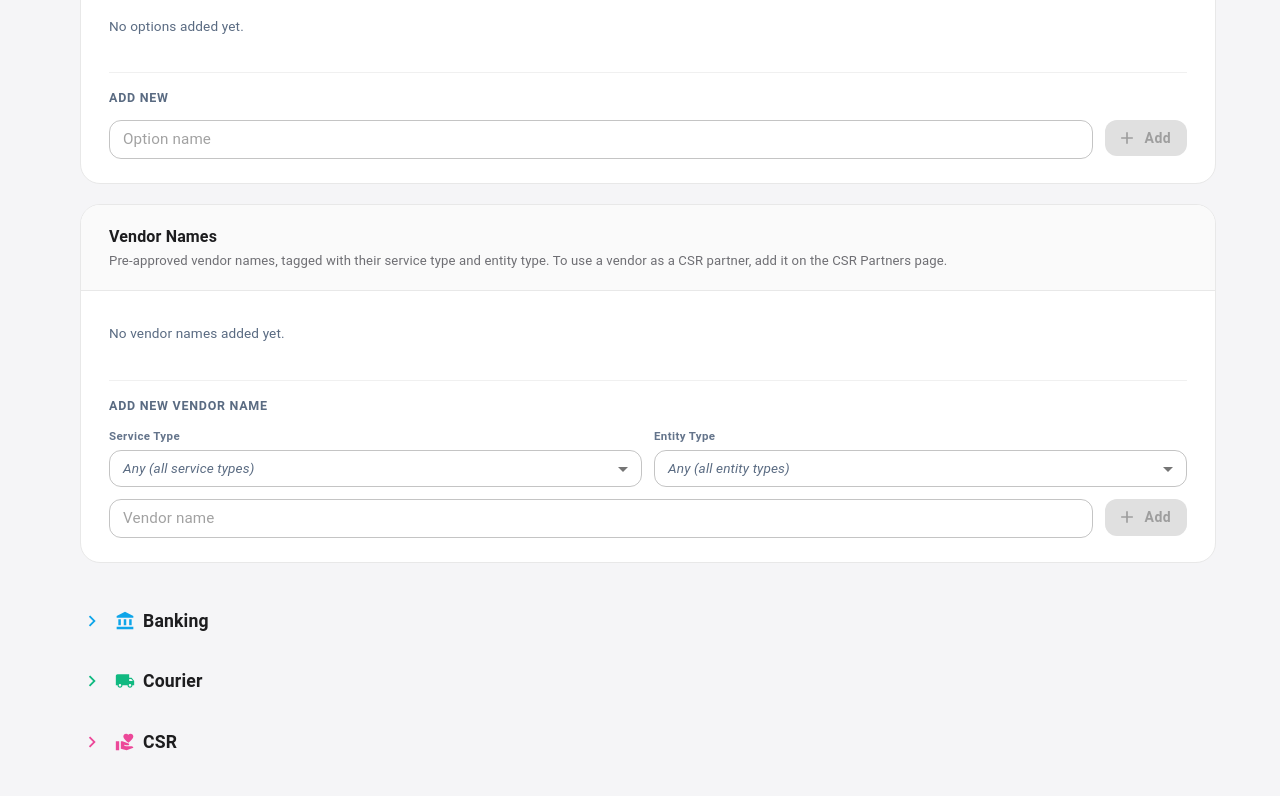
the admin can maintain both CSR catalogs from TTA Admin
(page scrolled)
What coordinates should you click on to do the following:
click the text "CSR"
I would click on:
 (160, 742)
Its box is [143,729,177,755].
(page scrolled)
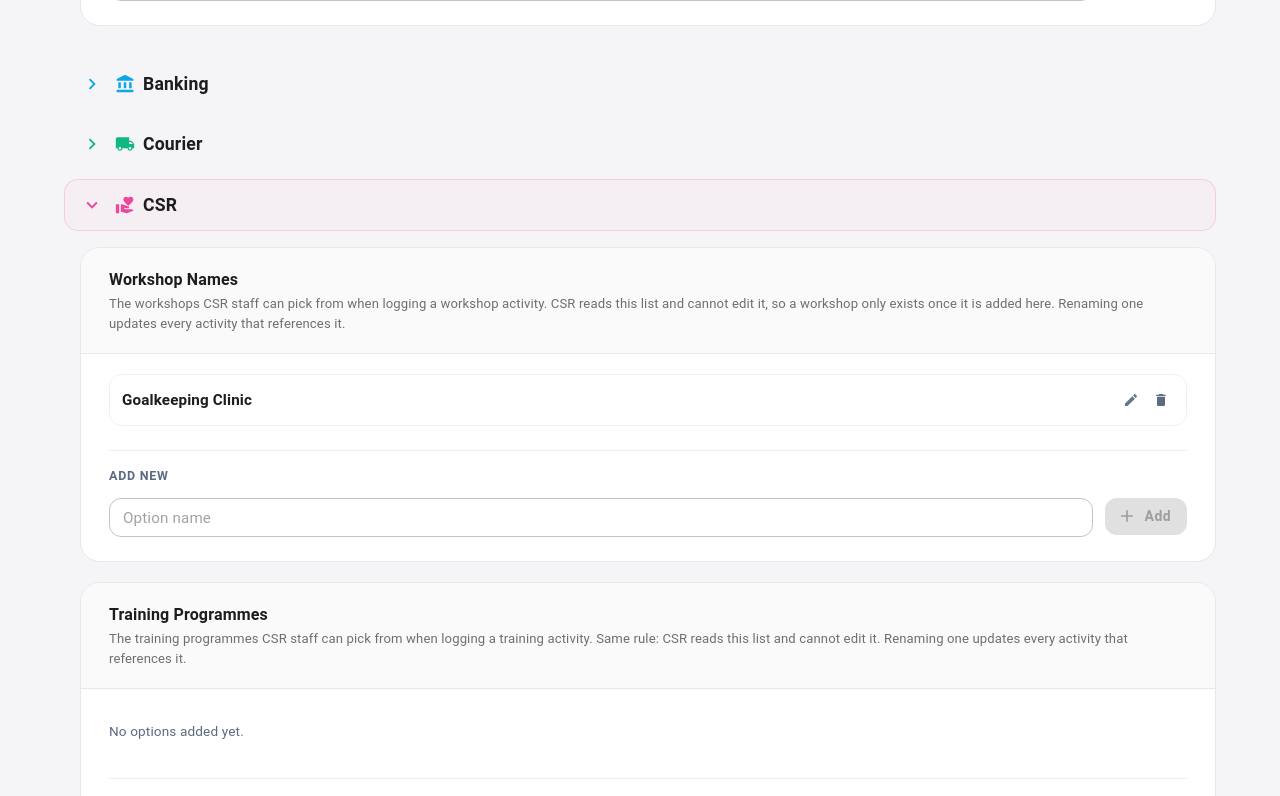
Expected: the text "Workshop Names" is shown, [109,270,238,289]
Expected: the text "Training Programmes" is shown, [109,605,268,624]
Expected: the text "Goalkeeping Clinic" is shown, [122,389,252,412]
